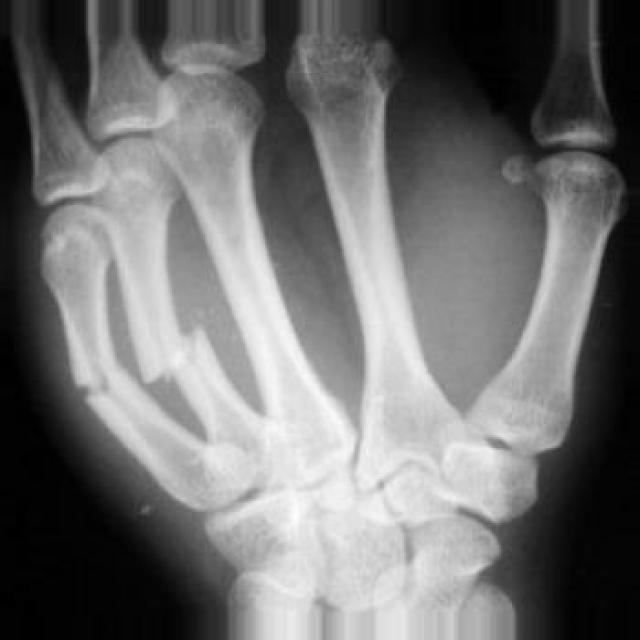Fracture: (144, 318, 213, 388), (60, 373, 131, 411)
